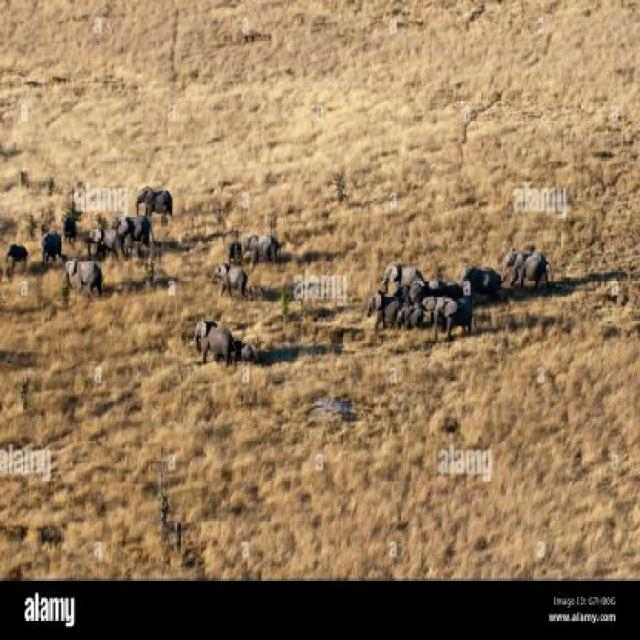elephant: (191, 316, 237, 369), (116, 214, 158, 271), (500, 249, 554, 293), (458, 258, 502, 308), (435, 296, 473, 344), (65, 260, 101, 308), (134, 184, 174, 224), (244, 228, 285, 266), (209, 264, 248, 301), (378, 261, 427, 290), (369, 291, 398, 335), (88, 223, 128, 252), (430, 270, 458, 308), (423, 298, 457, 328), (35, 230, 57, 272), (2, 241, 29, 270), (398, 303, 422, 331), (59, 214, 76, 248), (242, 343, 256, 375), (392, 281, 408, 302), (225, 241, 240, 261)
